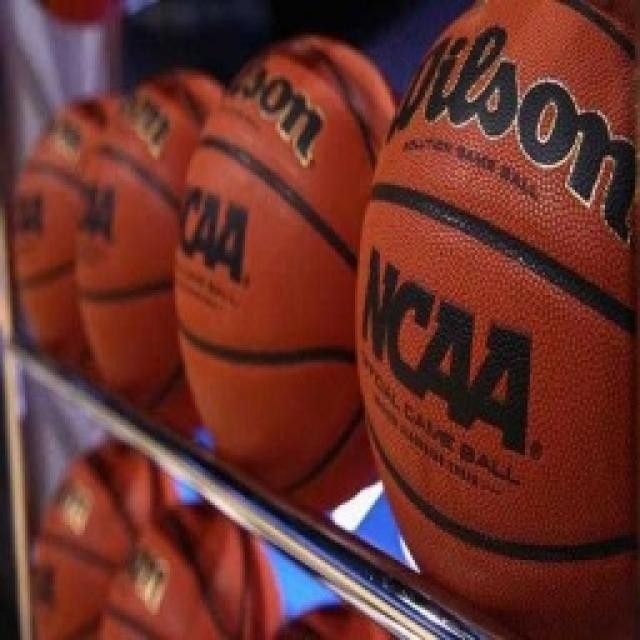rim: (349, 0, 640, 640), (167, 36, 428, 496), (71, 62, 241, 444), (6, 82, 122, 386), (21, 436, 170, 640), (90, 500, 288, 640)
